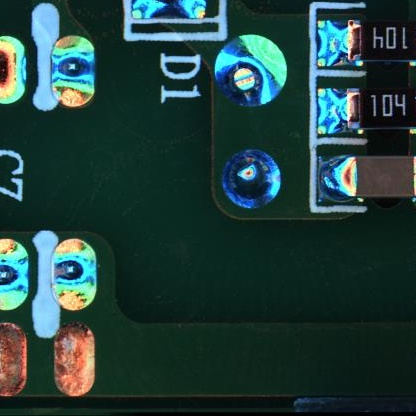spot: (211, 34, 289, 107), (220, 149, 282, 210), (51, 238, 97, 312), (50, 35, 95, 107), (53, 323, 96, 397), (1, 238, 29, 312), (1, 34, 28, 104), (1, 323, 26, 398)
